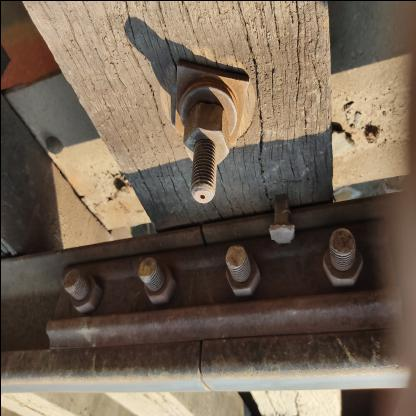Non Defective 3: (10, 184, 391, 352)
